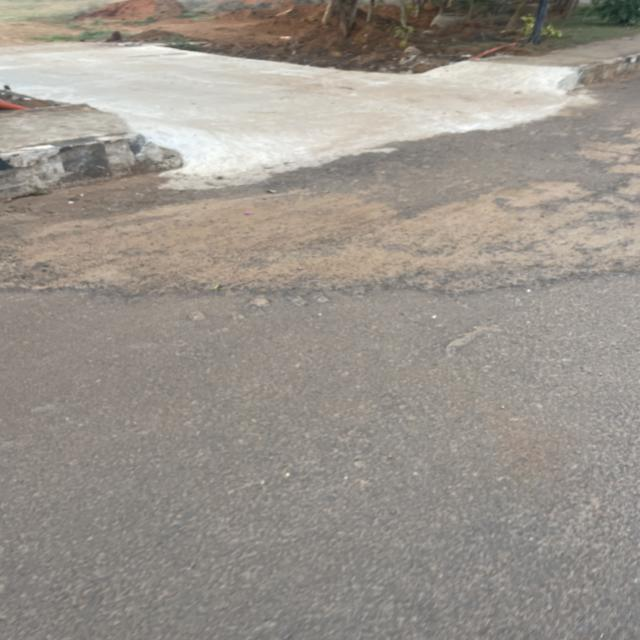D11: (119, 273, 587, 312)
D43: (161, 202, 575, 272)
